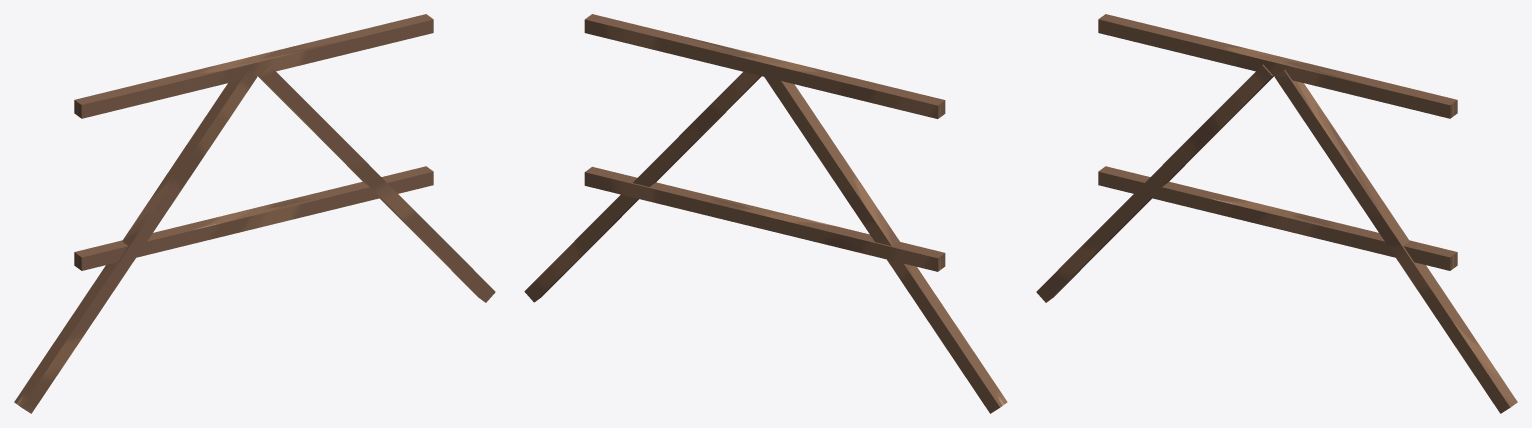
File: wooden_bars.fbx
3 renders of one model, left to right at view 1: azimuth 30°, elevation 25°; view 2: azimuth 150°, elevation 25°; view 3: azimuth 330°, elevation 25°, orthographic.
Parts seen in each view (by area): view 1: Cube.003; view 2: Cube.003; view 3: Cube.003.
Part boxes in pixels (bbox=[...]): Cube.003: bbox=[14, 14, 495, 413]; Cube.003: bbox=[524, 14, 1007, 413]; Cube.003: bbox=[1036, 14, 1517, 413].
Bounding box in the file's own units: 2935 × 1747 × 90.
1 material, 1 textured.
